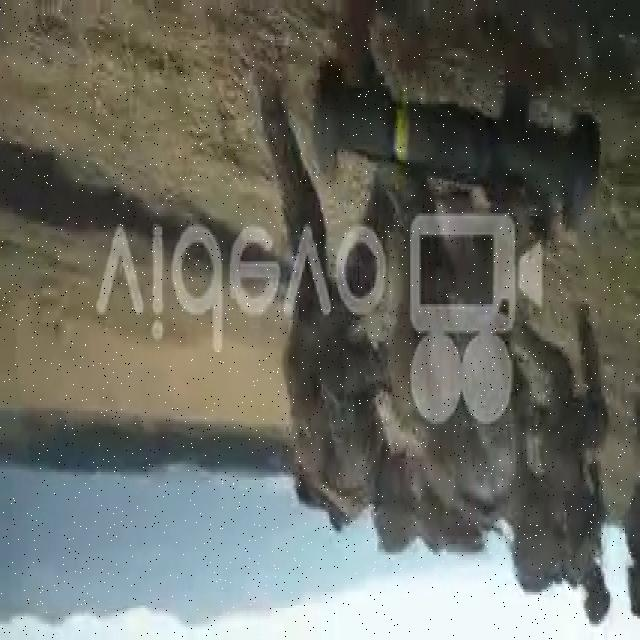bazooka: (309, 49, 604, 230)
